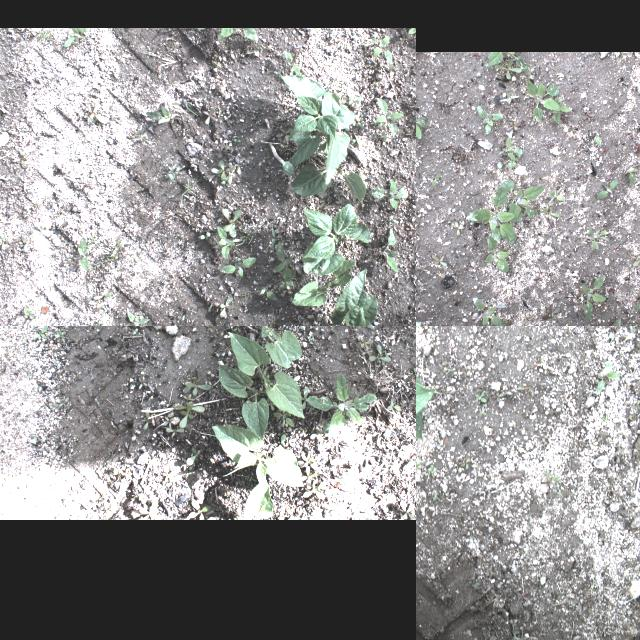crop: (275, 70, 355, 184), (228, 332, 306, 418), (212, 424, 304, 488), (297, 268, 387, 326), (302, 204, 371, 276), (219, 364, 269, 440), (290, 162, 366, 204), (292, 260, 356, 306), (238, 326, 302, 368), (416, 350, 438, 450), (245, 480, 275, 518)
weed: (465, 178, 545, 248), (306, 373, 378, 429), (529, 80, 573, 124), (579, 274, 609, 320), (369, 178, 409, 210), (488, 51, 530, 81), (372, 98, 403, 136), (234, 218, 276, 246), (473, 295, 510, 326), (374, 228, 400, 272), (484, 242, 514, 274), (498, 132, 522, 168), (476, 104, 506, 132), (276, 241, 294, 285), (220, 257, 256, 277), (596, 361, 620, 391), (371, 34, 394, 64), (146, 104, 180, 124), (181, 176, 205, 204), (584, 220, 606, 250), (217, 225, 236, 259), (294, 386, 320, 410), (222, 208, 242, 236), (94, 246, 122, 266), (594, 179, 622, 199), (188, 497, 212, 519), (277, 264, 295, 292), (182, 376, 210, 394), (542, 300, 564, 322), (212, 159, 236, 179), (218, 28, 258, 40), (297, 464, 317, 488), (368, 344, 392, 364), (416, 96, 426, 143), (272, 407, 294, 428), (302, 482, 326, 501), (284, 48, 300, 76), (127, 307, 150, 326), (64, 28, 88, 46), (85, 102, 106, 122), (172, 99, 198, 115), (77, 238, 89, 270), (592, 314, 623, 326), (536, 204, 562, 218), (179, 401, 193, 427), (258, 284, 278, 302), (300, 450, 318, 470), (310, 425, 330, 443), (451, 218, 467, 240), (399, 499, 416, 519), (130, 125, 148, 143), (244, 38, 264, 54), (549, 187, 569, 203), (624, 164, 640, 184), (219, 296, 233, 318), (12, 151, 28, 169), (165, 163, 183, 179), (503, 91, 521, 107), (506, 116, 524, 132), (80, 227, 94, 247), (510, 630, 536, 640), (38, 28, 54, 44), (276, 126, 292, 142), (262, 396, 280, 410), (173, 404, 204, 412), (432, 169, 444, 189), (632, 288, 640, 318), (142, 410, 154, 430), (202, 106, 215, 124), (186, 450, 200, 466), (544, 472, 560, 486), (30, 326, 47, 339), (240, 290, 262, 300), (351, 126, 362, 146), (517, 384, 535, 396), (386, 396, 402, 409), (630, 137, 640, 157), (277, 433, 287, 453), (631, 250, 640, 272), (56, 396, 70, 410), (216, 141, 228, 157), (354, 114, 366, 130), (183, 392, 195, 408), (197, 509, 216, 518), (24, 306, 36, 320), (432, 256, 446, 268), (360, 336, 374, 348), (166, 428, 184, 437), (24, 200, 40, 210), (93, 292, 113, 300), (592, 128, 602, 144), (407, 27, 416, 44), (163, 415, 175, 427), (426, 462, 438, 474), (474, 390, 486, 402), (208, 302, 222, 312), (112, 238, 122, 252), (20, 235, 28, 252), (138, 376, 148, 389), (461, 456, 471, 469), (350, 94, 362, 104), (378, 130, 390, 140), (31, 433, 43, 443), (112, 470, 124, 480), (162, 470, 172, 482), (308, 339, 320, 349), (492, 391, 504, 401), (198, 231, 212, 239), (344, 99, 358, 107), (352, 111, 360, 125), (220, 177, 232, 186), (168, 310, 176, 322), (114, 465, 126, 473), (244, 474, 256, 482), (516, 592, 528, 600), (0, 233, 6, 248), (207, 383, 217, 392), (271, 226, 275, 248), (411, 326, 416, 343), (348, 138, 356, 148), (56, 330, 66, 338), (188, 460, 196, 470), (478, 405, 486, 415), (323, 28, 332, 36), (345, 125, 357, 131), (389, 216, 398, 224), (385, 349, 393, 358), (432, 490, 438, 502), (623, 326, 635, 332), (404, 128, 414, 134), (233, 326, 243, 332), (89, 322, 103, 326), (416, 459, 422, 468), (40, 224, 48, 230), (94, 397, 100, 405), (204, 326, 212, 332), (378, 349, 386, 355), (188, 377, 195, 383), (374, 75, 378, 85), (132, 328, 138, 334), (190, 448, 194, 457), (233, 138, 241, 142), (202, 324, 217, 326), (237, 258, 241, 264), (194, 27, 206, 29), (108, 448, 112, 454), (358, 354, 364, 358), (479, 445, 485, 449), (308, 336, 312, 340), (135, 378, 137, 382)
